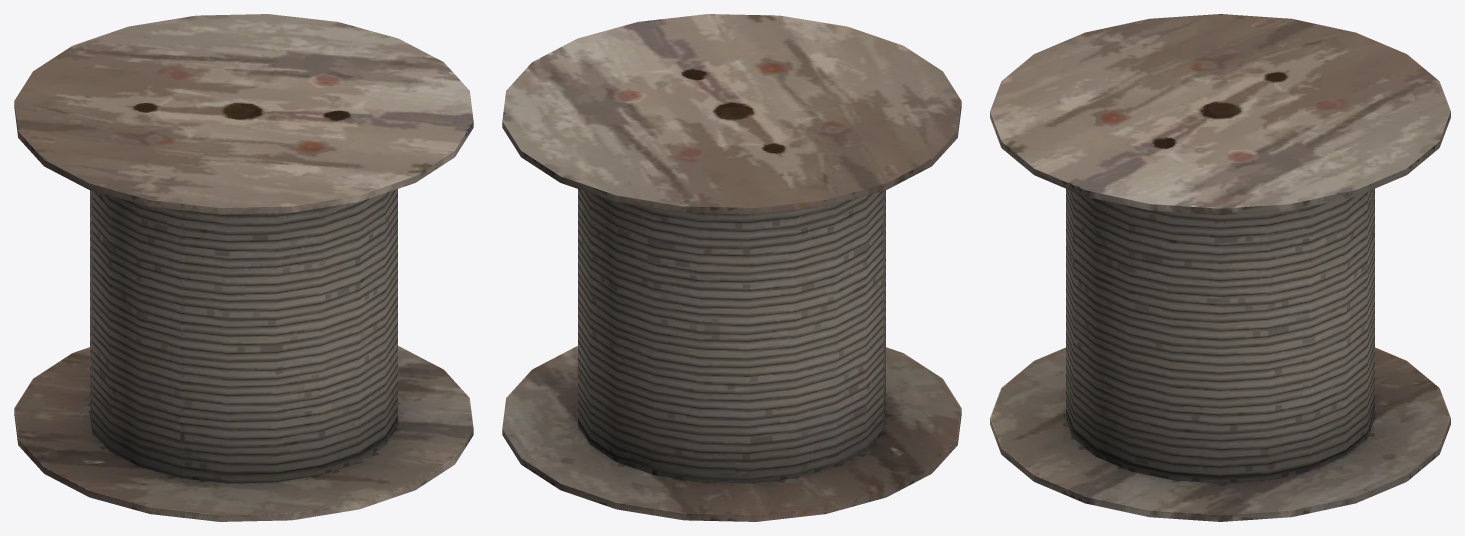
3 views of the same model, side by side, from view 1: azimuth 30°, elevation 25°; view 2: azimuth 150°, elevation 25°; view 3: azimuth 270°, elevation 25° (orthographic).
Parts seen in each view (by area): view 1: body0_model0_lod0_mesh0; view 2: body0_model0_lod0_mesh0; view 3: body0_model0_lod0_mesh0.
Boxes of the visible parts, <box> form: body0_model0_lod0_mesh0: <box>14,14,473,521</box>; body0_model0_lod0_mesh0: <box>502,14,961,521</box>; body0_model0_lod0_mesh0: <box>990,14,1450,521</box>.
Size of the model in its own units: 64 by 48 by 64.
Materials: 1 (1 with a texture image).
